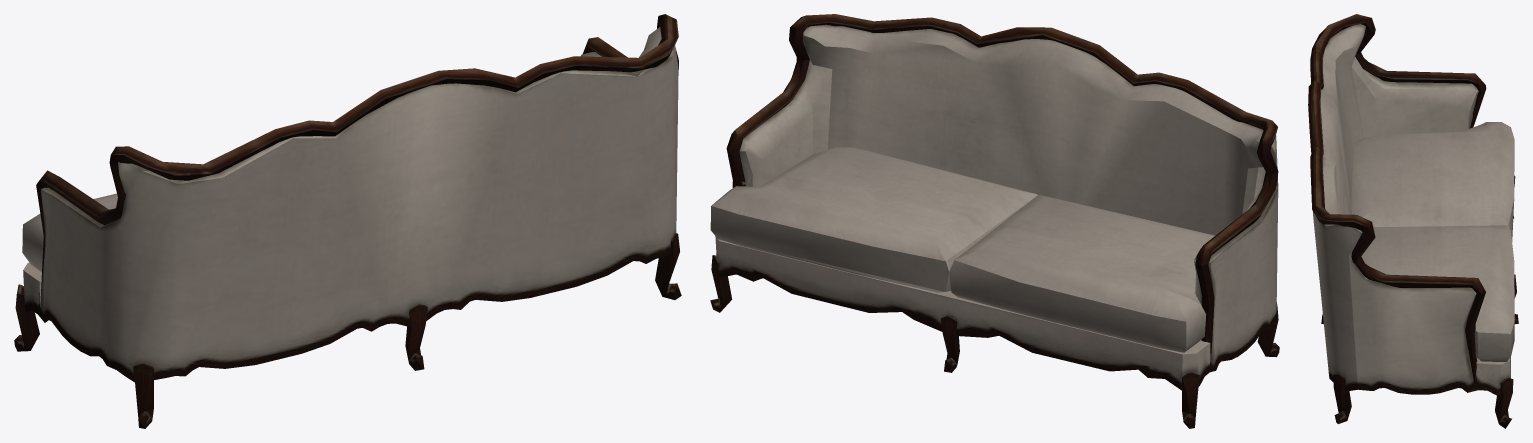
The model's file is sofa-victorian-a.lod1.glb.
3 renders of one model, left to right at view 1: azimuth 30°, elevation 25°; view 2: azimuth 150°, elevation 25°; view 3: azimuth 270°, elevation 25°, orthographic. The views are drawn at different scales.
Parts seen in each view (by area): view 1: sofa-victorian-a; view 2: sofa-victorian-a; view 3: sofa-victorian-a.
Part boxes in pixels (bbox=[...]): sofa-victorian-a: bbox=[14, 14, 681, 428]; sofa-victorian-a: bbox=[710, 14, 1279, 428]; sofa-victorian-a: bbox=[1308, 14, 1518, 428].
Size of the model in its own units: 1.57 by 0.8002 by 0.6591.
1 material, 1 textured.
